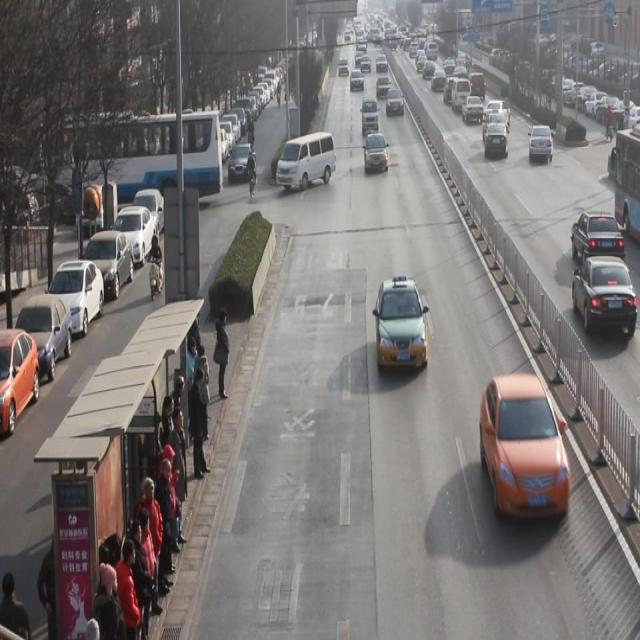car: (481, 376, 571, 522), (572, 255, 640, 340), (376, 279, 429, 372), (572, 209, 626, 270), (528, 124, 554, 165), (364, 132, 389, 173), (483, 97, 512, 132), (484, 124, 509, 159), (482, 112, 509, 144), (462, 95, 484, 126), (466, 72, 486, 106), (386, 86, 405, 118), (442, 77, 460, 104), (431, 70, 448, 94), (376, 75, 392, 100), (452, 66, 469, 89)
truck: (275, 133, 336, 194), (362, 95, 379, 137), (452, 78, 471, 113)
van: (613, 120, 640, 238)
